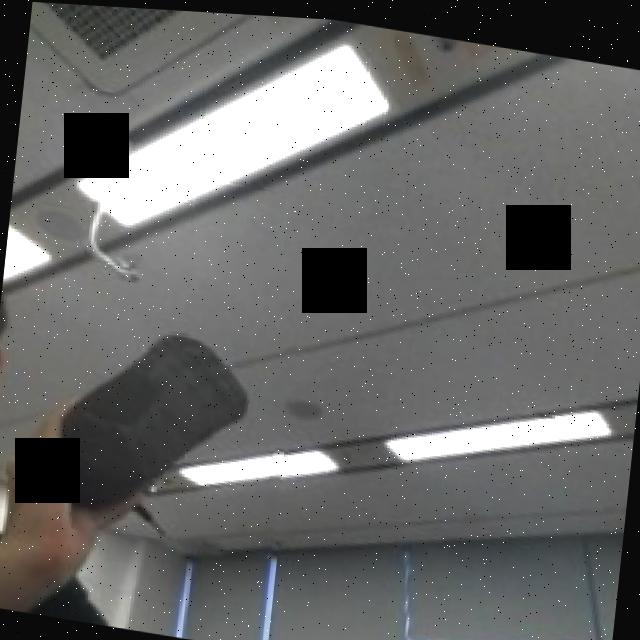shoe: (62, 274, 300, 559)
